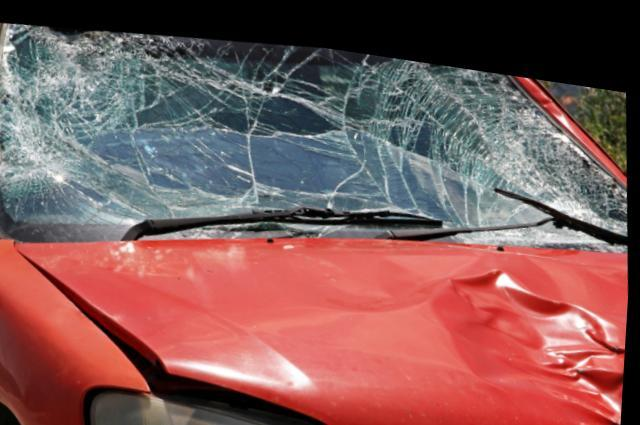dent: (145, 237, 631, 425)
glass shatter: (0, 22, 630, 240)
